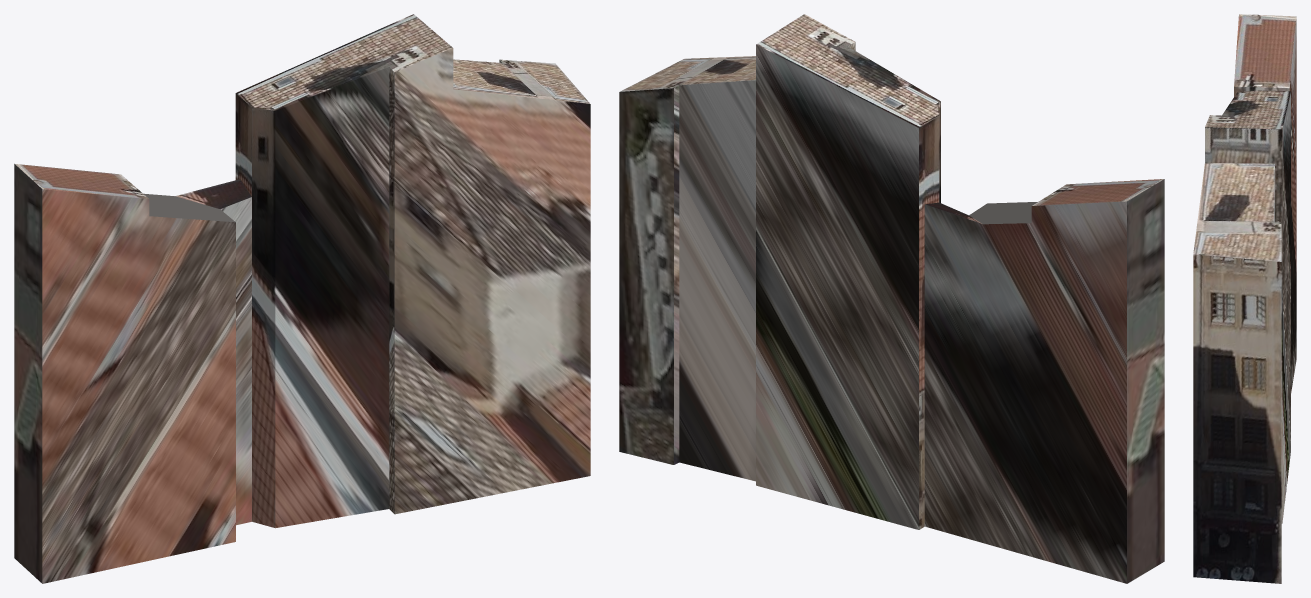
The picture shows the model from 3 angles, left to right: view 1: azimuth 30°, elevation 25°; view 2: azimuth 150°, elevation 25°; view 3: azimuth 270°, elevation 25°; orthographic projection. The views are drawn at different scales.
Visible parts, largest first — view 1: Z_UP; view 2: Z_UP; view 3: Z_UP.
Part boxes in pixels (x1,y1,x2,y2): Z_UP: (14, 14, 590, 583); Z_UP: (619, 14, 1164, 583); Z_UP: (1193, 14, 1296, 583).
Bounding box in the file's own units: 27.77 × 22.46 × 5.34.
Materials: 2 (1 with a texture image).
